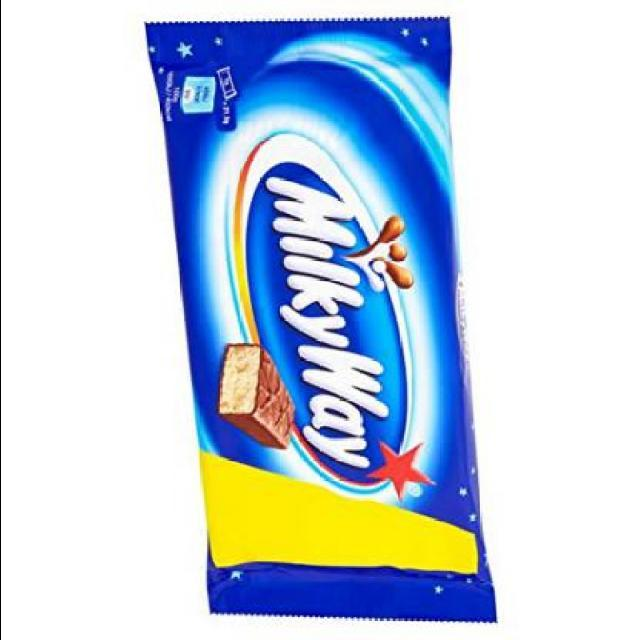Chocolate bar: (142, 16, 496, 626)
